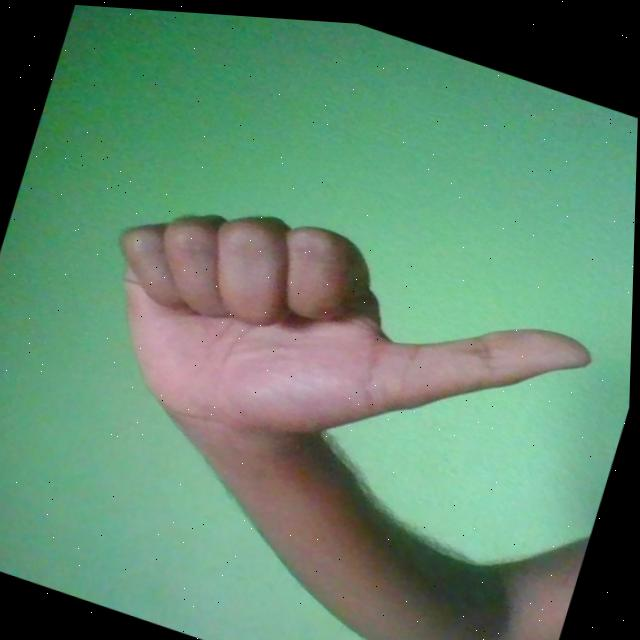Dislike: (75, 162, 607, 530)
